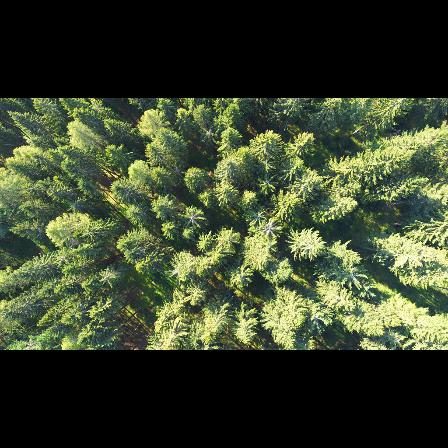Sick: (335, 261, 367, 287), (258, 216, 283, 241), (179, 205, 205, 228), (245, 205, 266, 227), (198, 121, 218, 142)
